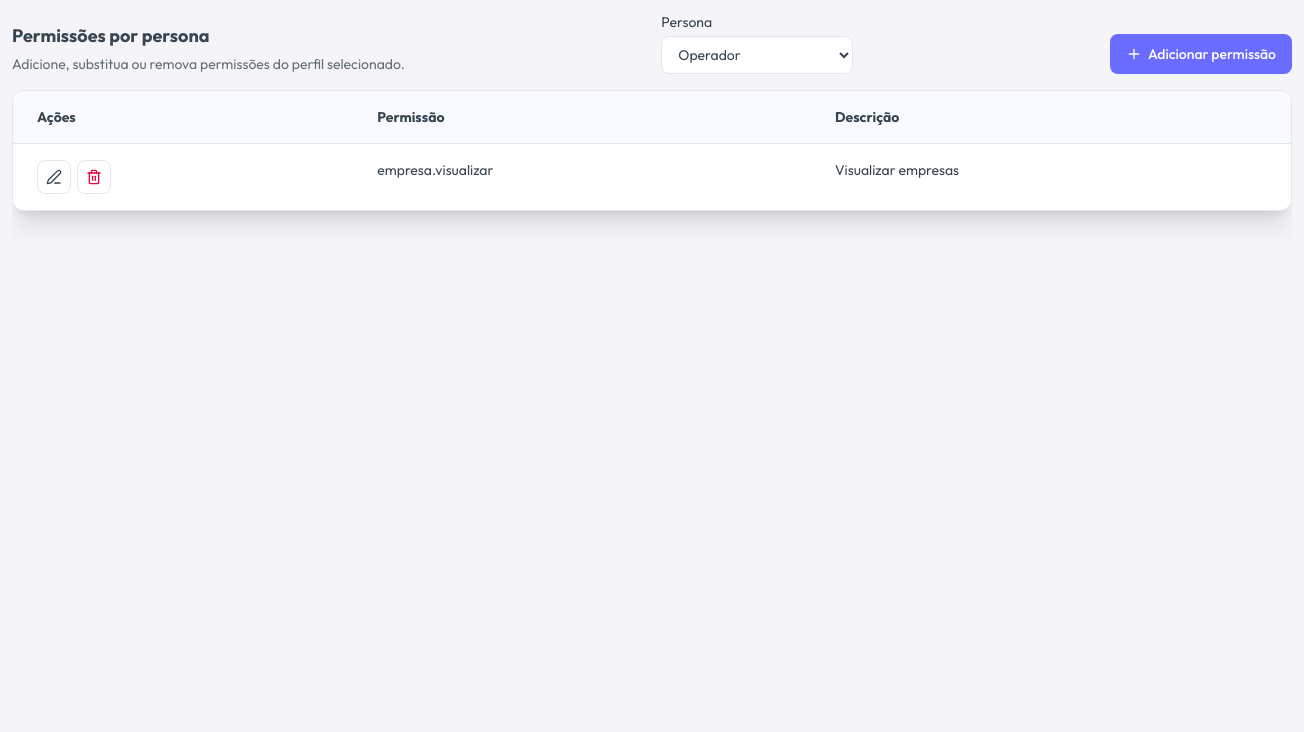
Permissions assigned to a persona › shows failed saves without losing the form
This screenshot has width=1304, height=732.
Click the button "Adicionar permissão".
click(1201, 54)  # box [1110, 34, 1292, 74]
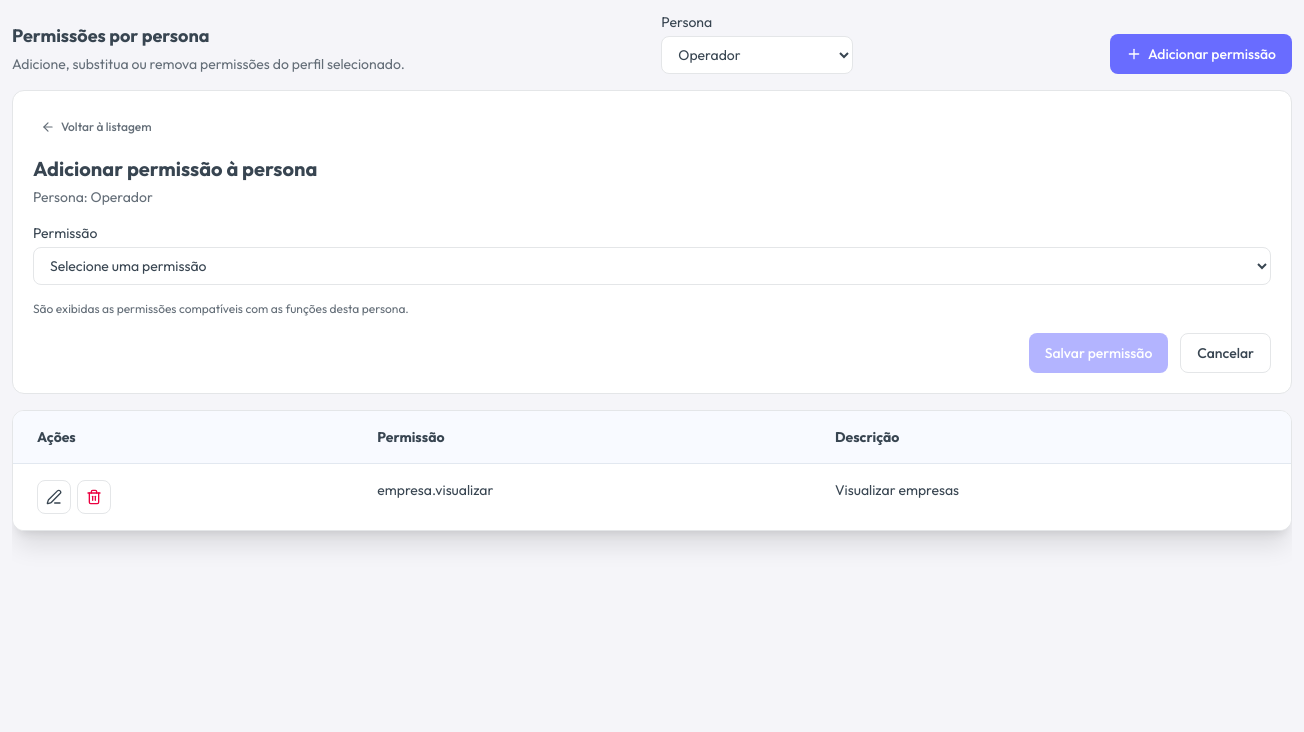
Select "empresa.editar — Editar empresas" in the dropdown labelled "Permissão" at (652, 266), box [33, 247, 1271, 285]
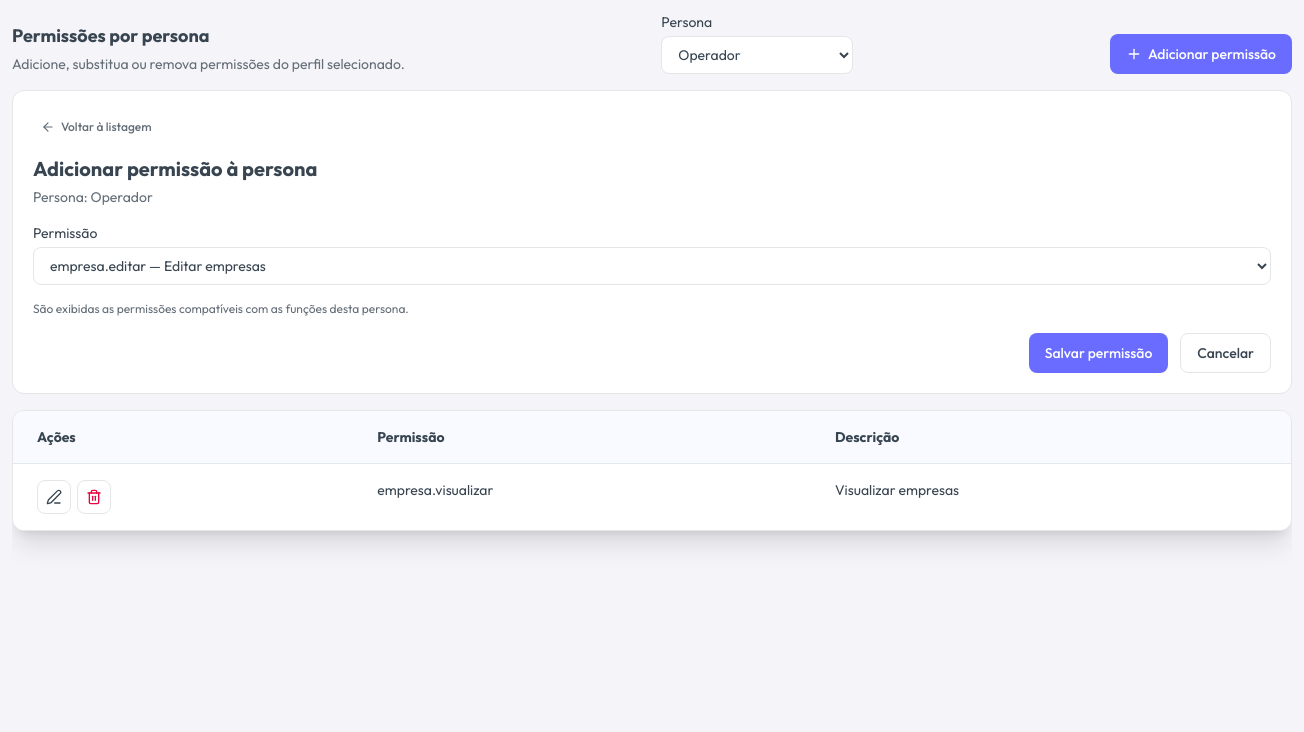
Click the button "Salvar permissão".
click(1099, 353)  # box [1029, 333, 1168, 373]
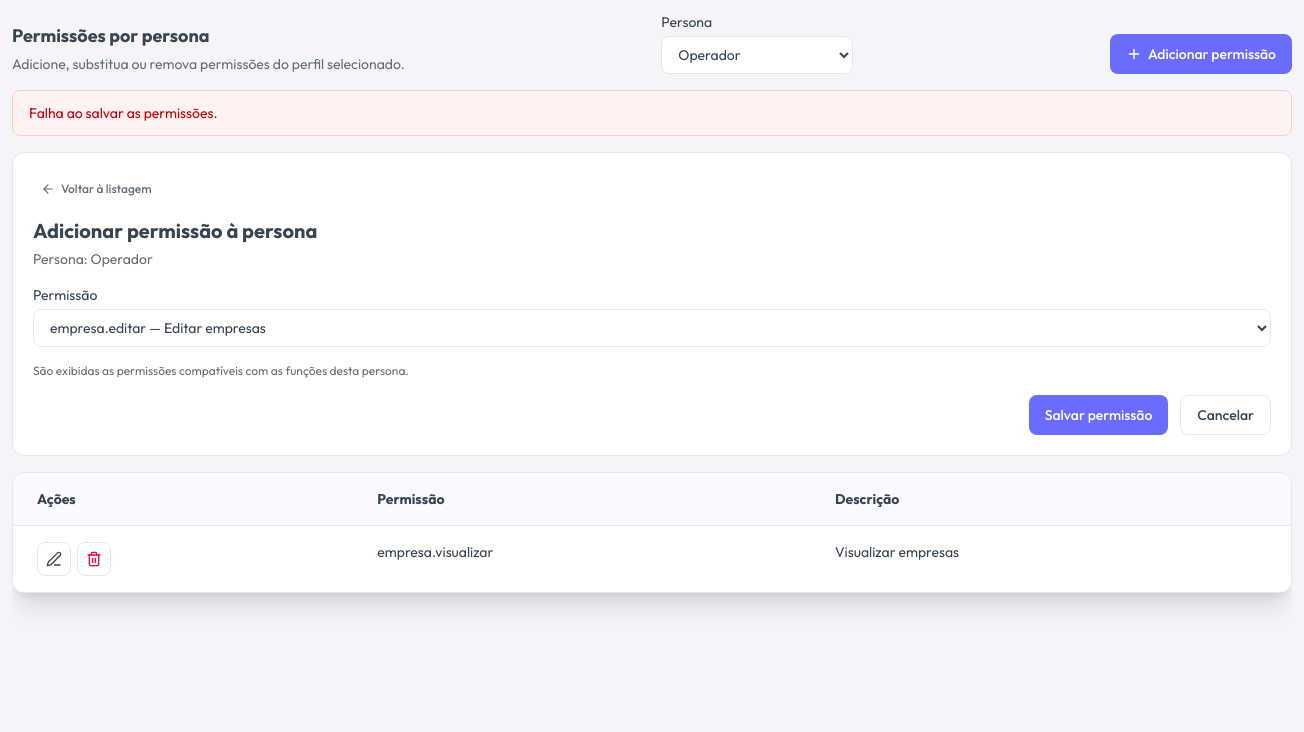
Result: the message reads "Falha ao salvar as permissões." at [29, 104, 218, 122]
